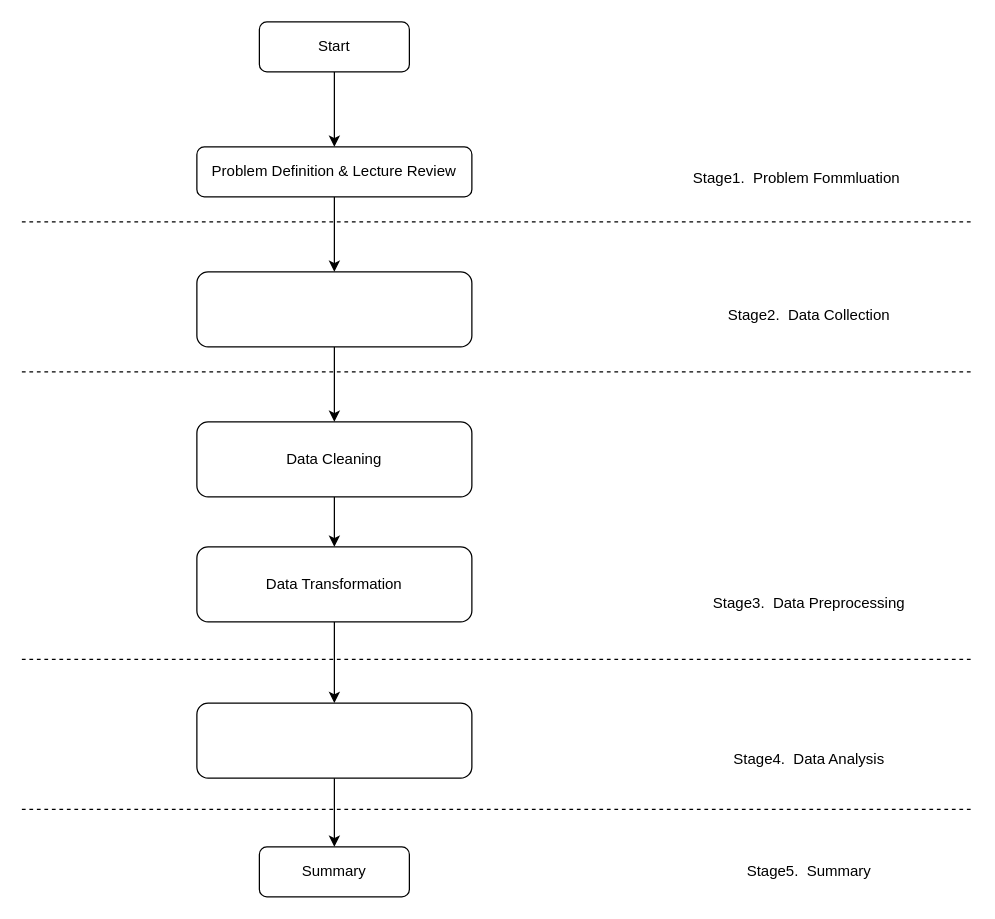
The diagram is 995 pixels wide and 919 high, and some of its shapes have lost their labels. Each missing label, with the centre of its shape:
Analysis the data using machine learning and statistical methods: point (334, 740)
get dataset from Xmap API and Malaysia's open data portal: point (334, 309)
